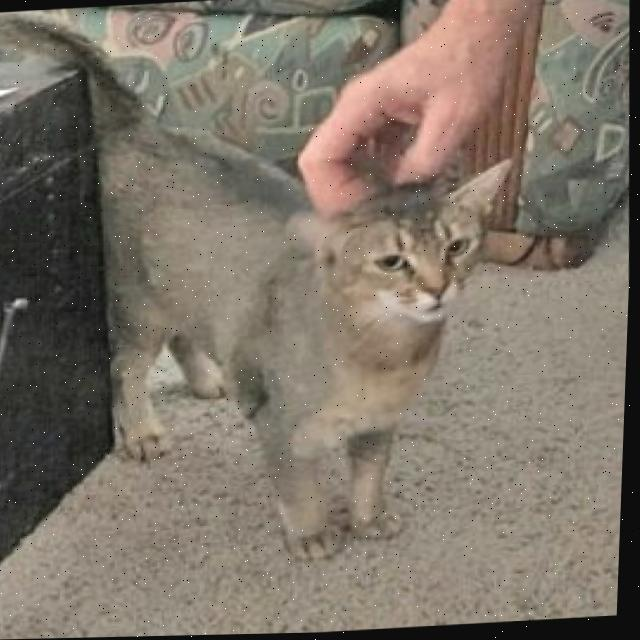Abyssinian: (0, 0, 531, 587)
